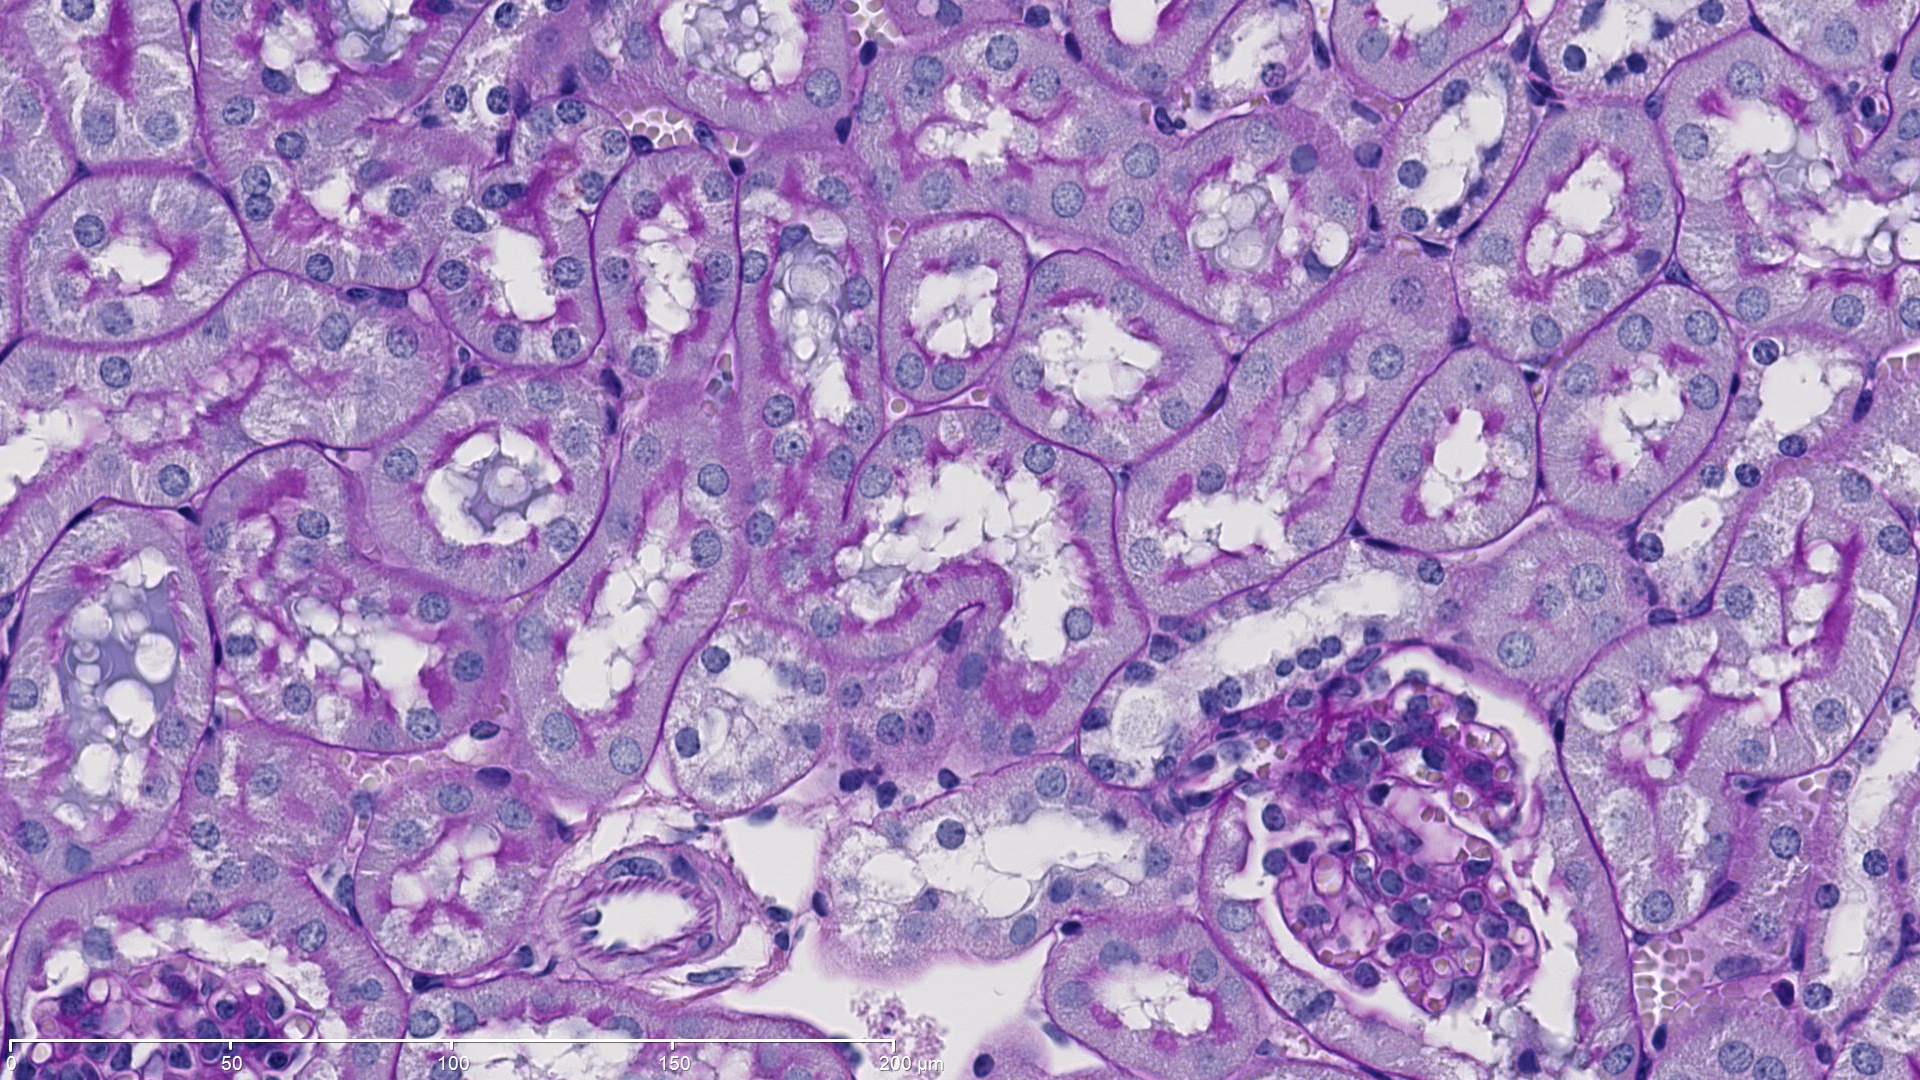Glomeruli: (1209, 653, 1573, 1027)
